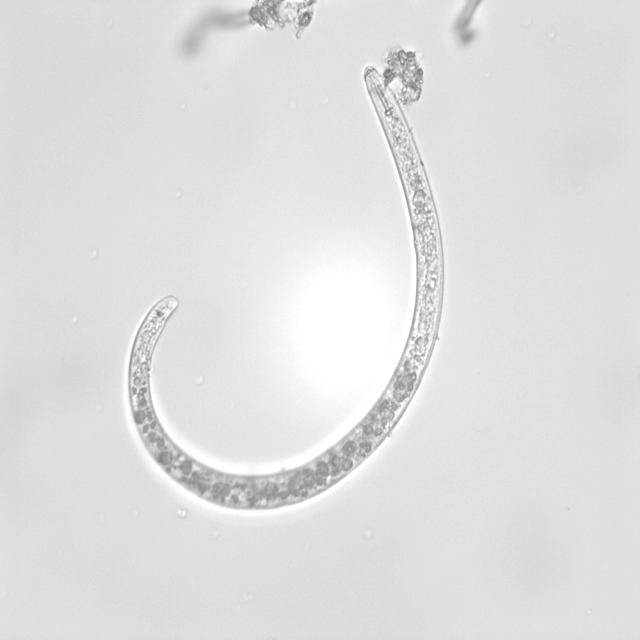Helicotylenchus: (122, 59, 456, 525)
